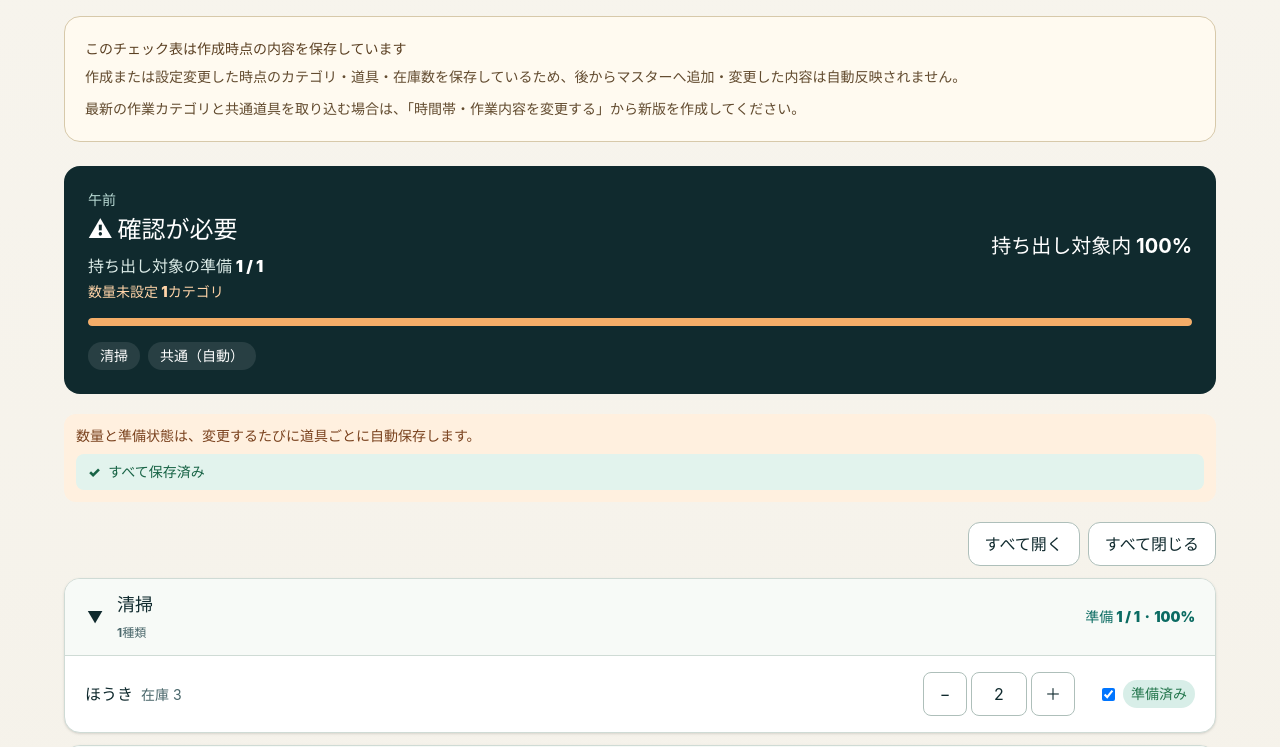
DailyChecklistView › 数量変更を自動保存し、完了後も利用者が選んだ開閉状態を維持する
(page scrolled)
Click the button named "ほうきを1増やす" at (1053, 694), box [1031, 672, 1075, 716]
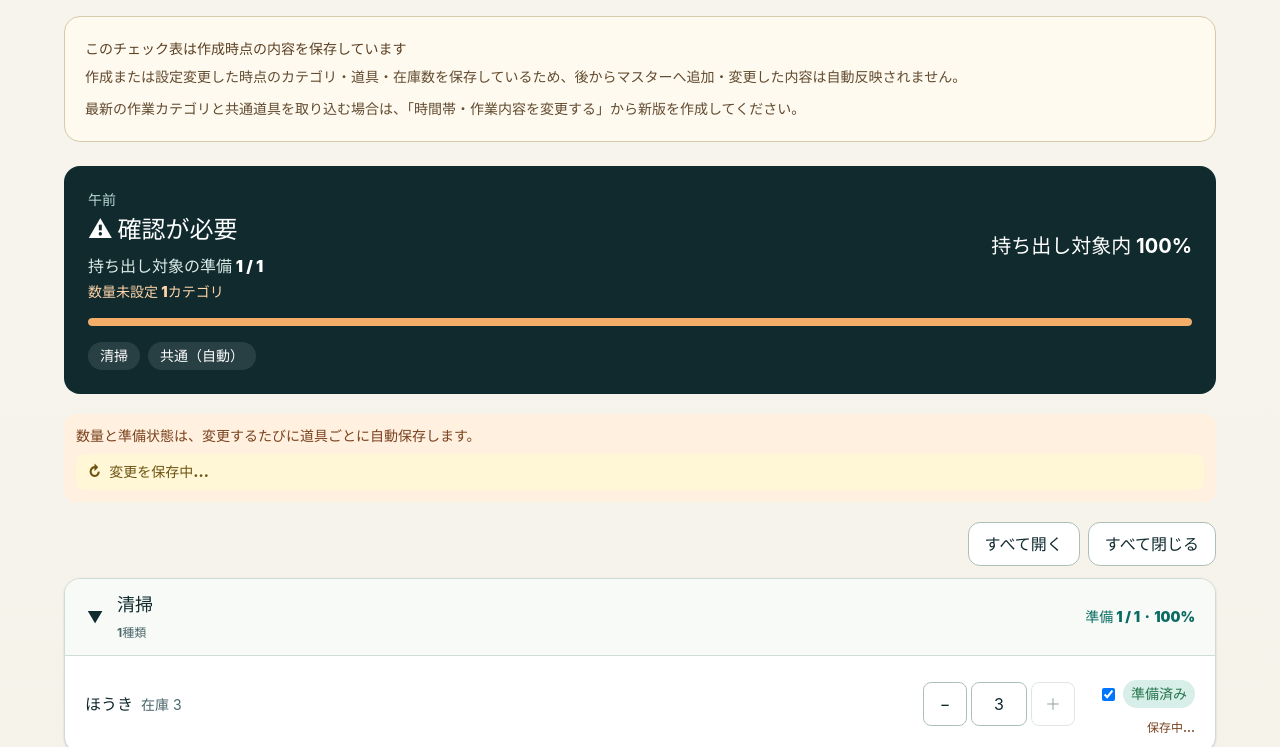
Check: the message named "自動保存の状態" shows "変更を保存中…", box [109, 463, 209, 480]
Check: the text "保存中…" is shown, box [1147, 720, 1195, 736]
Click the button "▼ 清掃 1種類 準備 1 / 1・100%" at (135, 604), box [65, 579, 1215, 655]
(page scrolled)
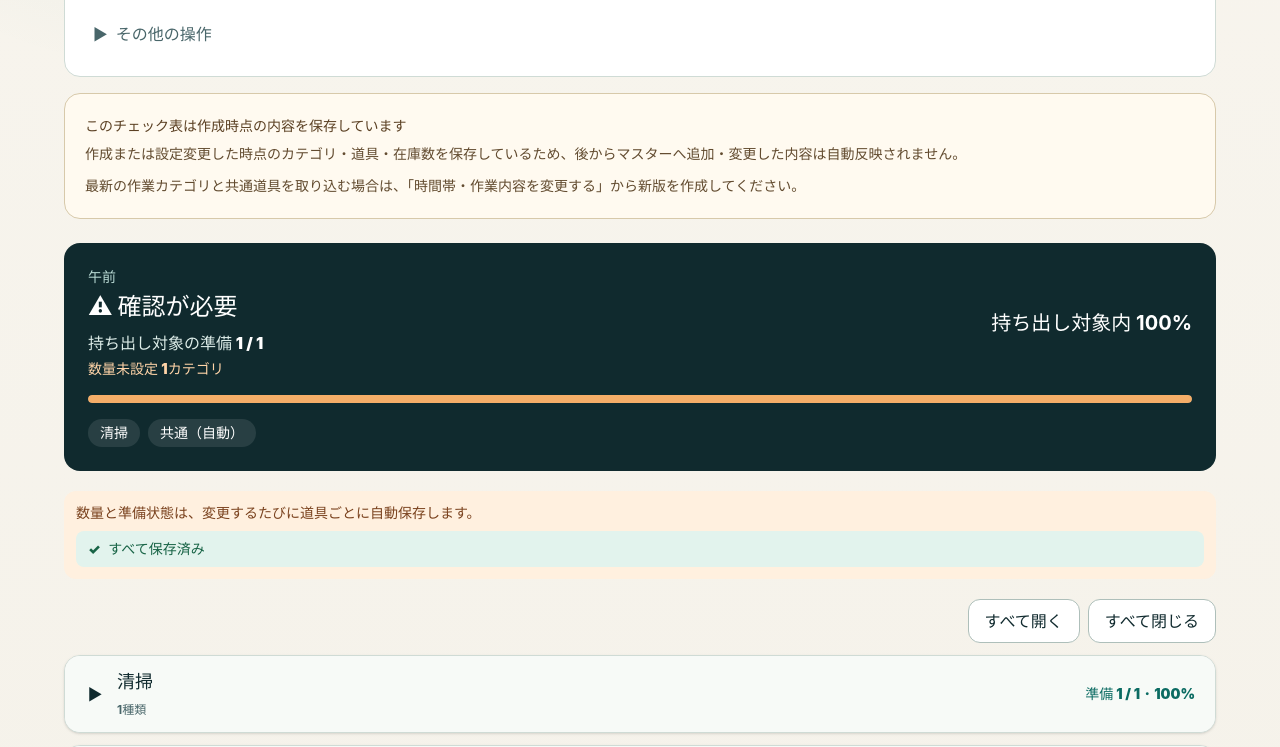
Check: the message named "自動保存の状態" shows "すべて保存済み", box [108, 540, 205, 557]
Check: the button "▶ 清掃 1種類 準備 1 / 1・100%" is collapsed, box [65, 656, 1215, 732]
